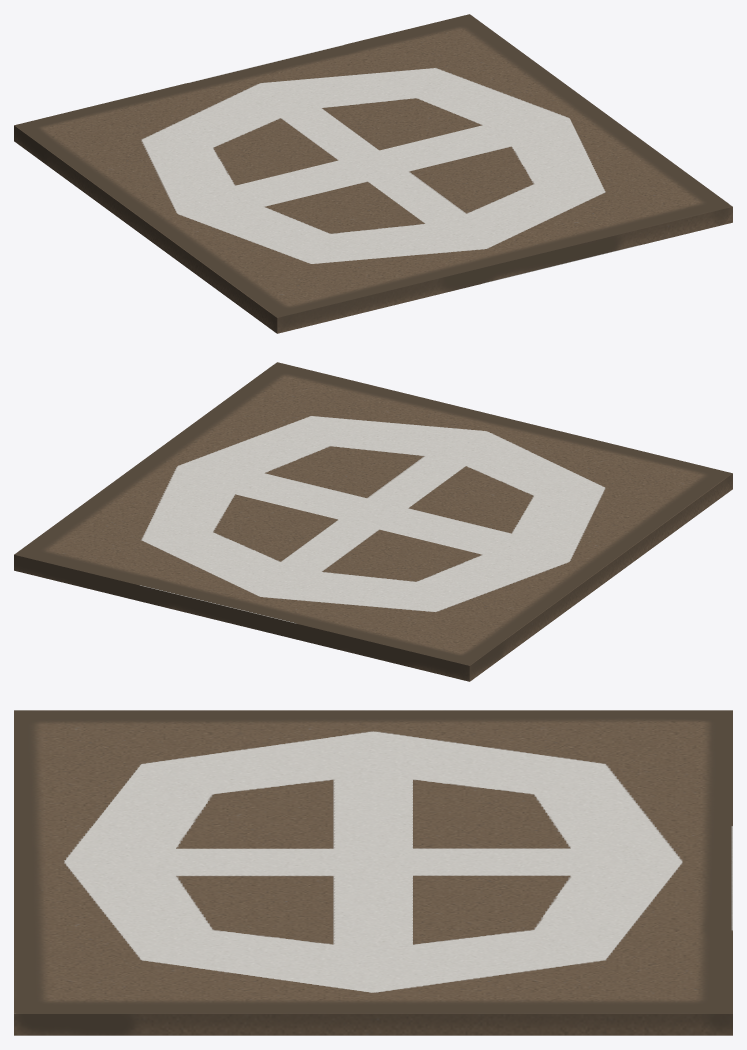
The model's file is Road5.fbx.
3 views of the same model, one above another, from view 1: azimuth 30°, elevation 25°; view 2: azimuth 150°, elevation 25°; view 3: azimuth 270°, elevation 25° (orthographic). The views are drawn at different scales.
Parts seen in each view (by area): view 1: pCube2; view 2: pCube2; view 3: pCube2.
Boxes of the visible parts, <box> form: pCube2: <box>14,14,732,333</box>; pCube2: <box>14,362,732,681</box>; pCube2: <box>14,710,732,1035</box>.
Bounding box in the file's own units: 3000 × 100 × 3000.
1 material, 1 textured.
